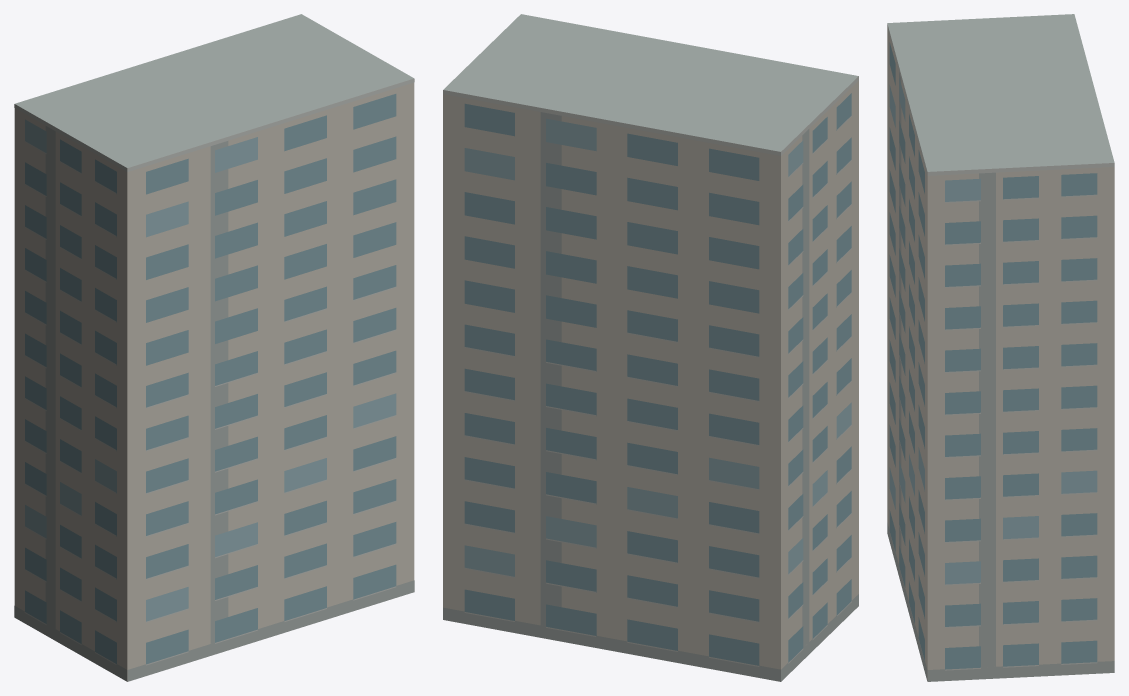
File: residential-1909ce22-474e-4aac-9db1-ac4e751a40aa.glb
The picture shows the model from 3 angles, left to right: view 1: azimuth 30°, elevation 25°; view 2: azimuth 150°, elevation 25°; view 3: azimuth 270°, elevation 25°; orthographic projection. The views are drawn at different scales.
Visible parts, largest first — view 1: residential-1909ce22-474e-4aac-9db1-ac4e751a40aa.tmp; view 2: residential-1909ce22-474e-4aac-9db1-ac4e751a40aa.tmp; view 3: residential-1909ce22-474e-4aac-9db1-ac4e751a40aa.tmp.
Boxes of the visible parts, left/top/right/bottom form: residential-1909ce22-474e-4aac-9db1-ac4e751a40aa.tmp: left=14, top=14, right=414, bottom=681; residential-1909ce22-474e-4aac-9db1-ac4e751a40aa.tmp: left=443, top=14, right=858, bottom=681; residential-1909ce22-474e-4aac-9db1-ac4e751a40aa.tmp: left=887, top=14, right=1114, bottom=681.
Size of the model in its own units: 20.6 by 31 by 12.54.
